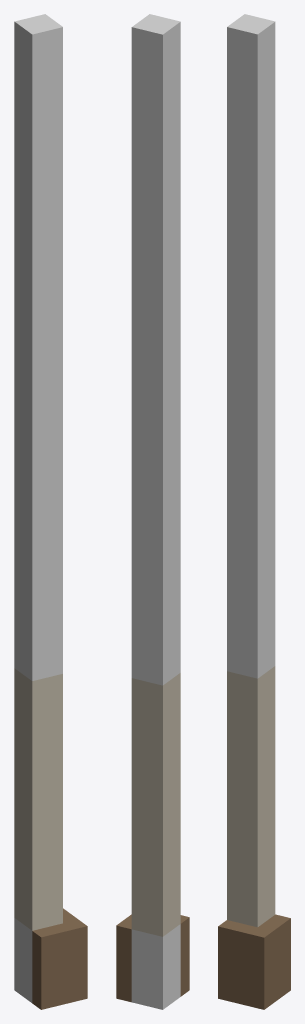
Rendered from Mesh_WallBaseboard2Colors_B6.fbx.
The picture shows the model from 3 angles, left to right: view 1: azimuth 30°, elevation 25°; view 2: azimuth 150°, elevation 25°; view 3: azimuth 330°, elevation 25°; orthographic projection.
Parts seen in each view (by area): view 1: Mesh_WallBaseboard2Colors_B6; view 2: Mesh_WallBaseboard2Colors_B6; view 3: Mesh_WallBaseboard2Colors_B6.
Boxes of the visible parts, x1=… form: Mesh_WallBaseboard2Colors_B6: x1=14, y1=14, x2=87, y2=1009; Mesh_WallBaseboard2Colors_B6: x1=116, y1=14, x2=189, y2=1009; Mesh_WallBaseboard2Colors_B6: x1=218, y1=14, x2=290, y2=1009.
Size of the model in its own units: 0.15 by 3 by 0.15.
